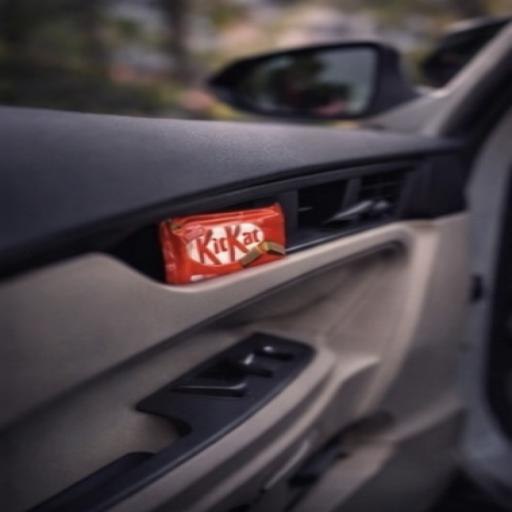kitkat: (120, 176, 386, 328)
